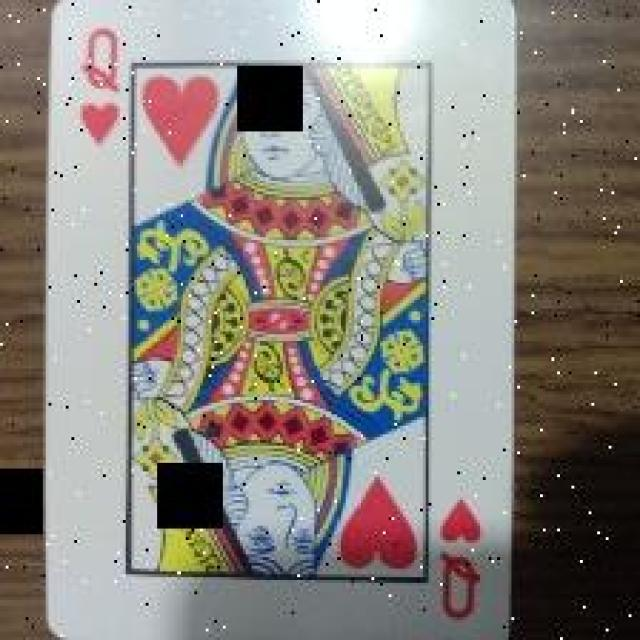Queen of hearts: (49, 1, 516, 640)
